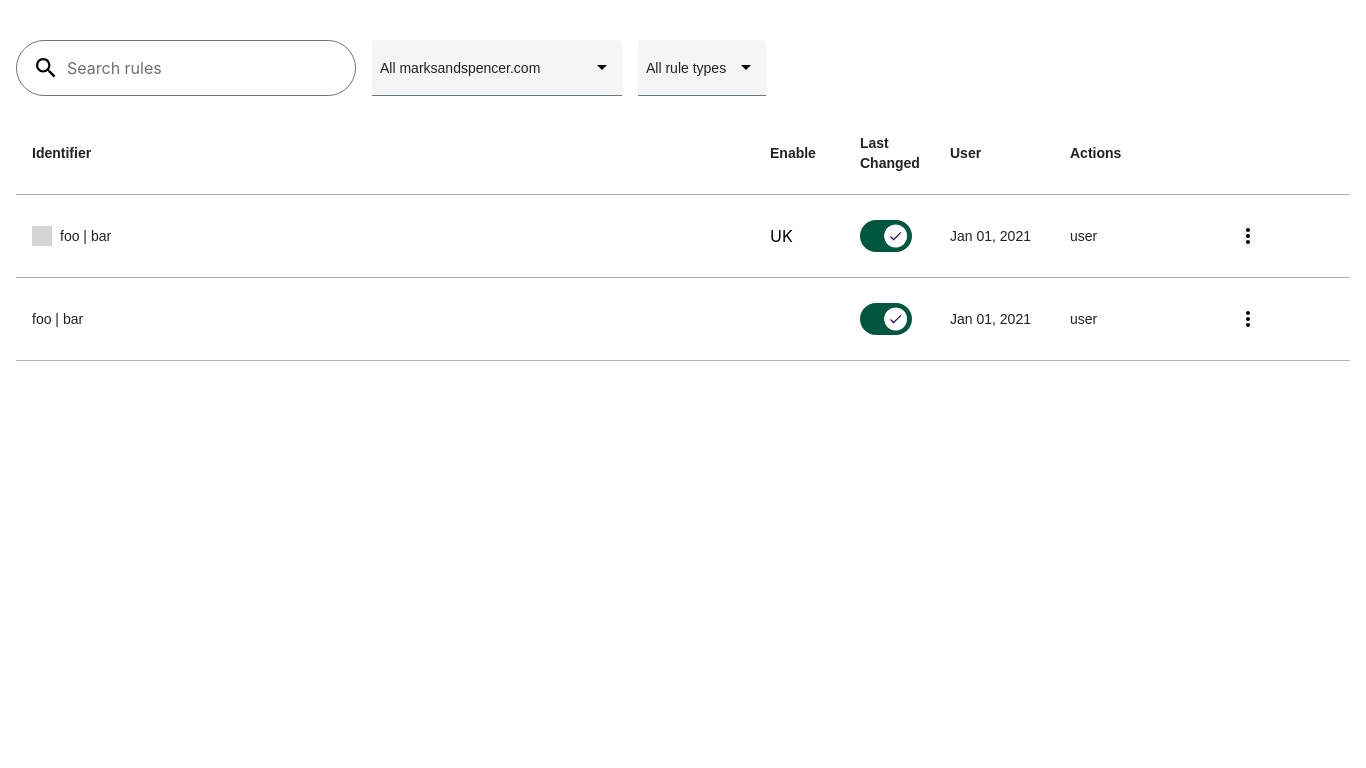
it: TablePanel › toggle functionality › should display an error message when toggling row fails
The image size is (1366, 768).
Click the checkbox titled "Toggle" next to "UK".
click(886, 236)  # box x1=860 y1=220 x2=912 y2=252
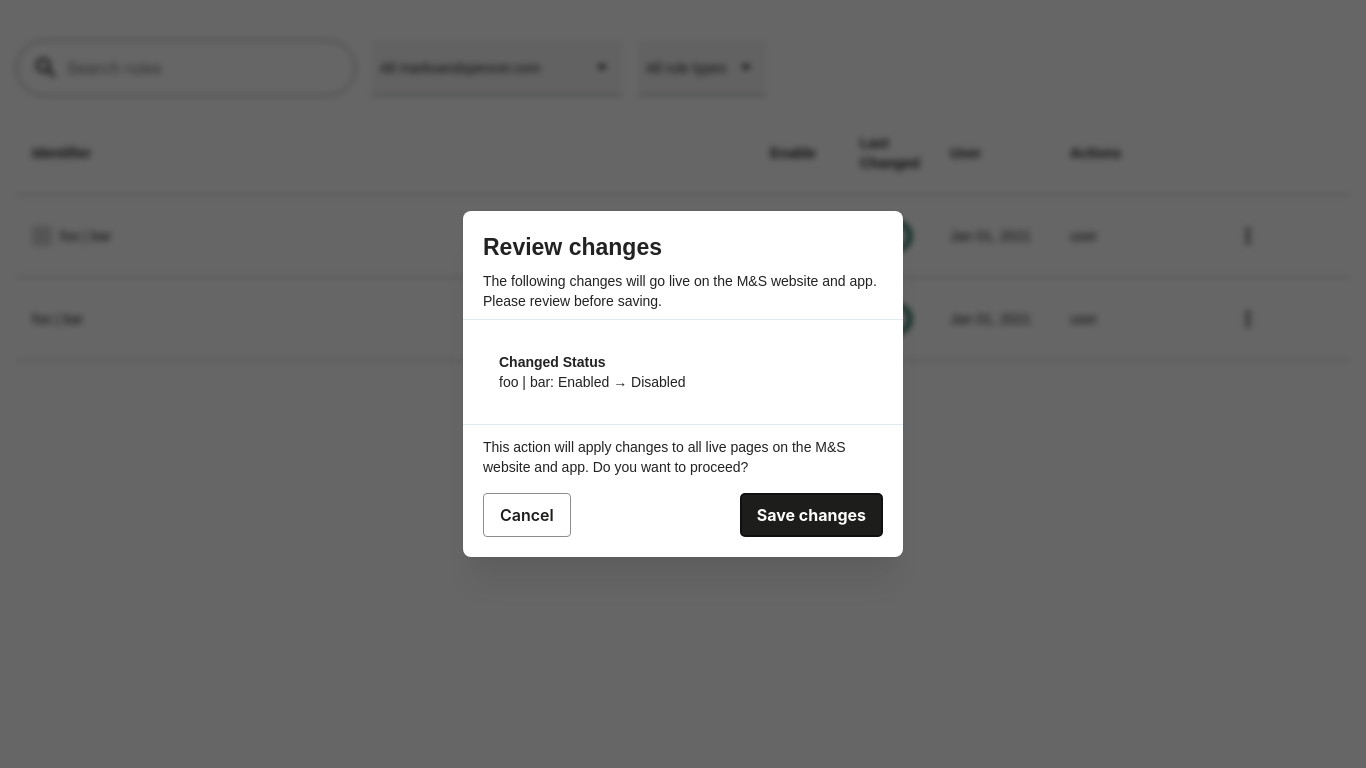
Expected: the heading "Review changes" is shown, x1=483 y1=234 x2=662 y2=260
Click the button "Save changes".
click(811, 515)  # box x1=740 y1=493 x2=883 y2=537
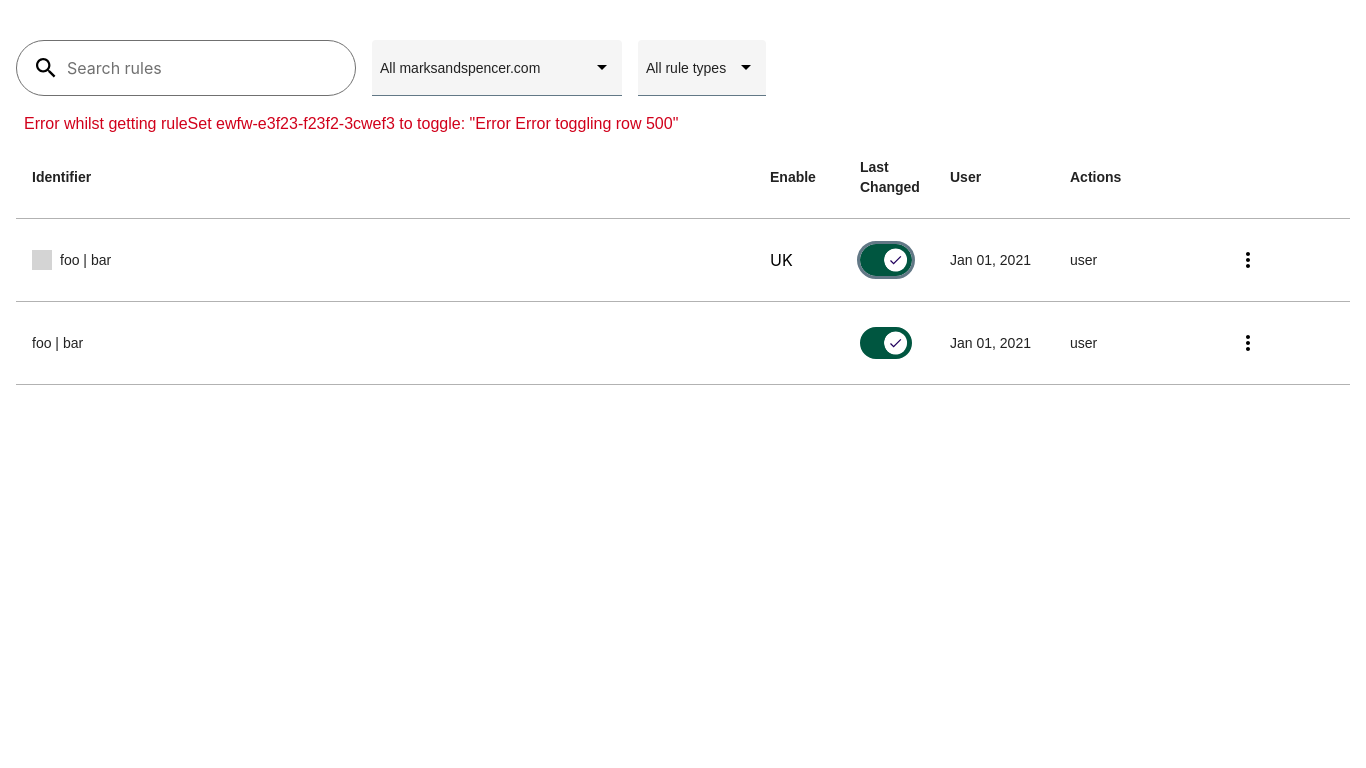
Expected: the text "Error whilst getting ruleSet ewfw-e3f23-f23f2-3cwef3 to toggle: \"Error Error toggling row 500\"" is shown, x1=24 y1=115 x2=678 y2=132
